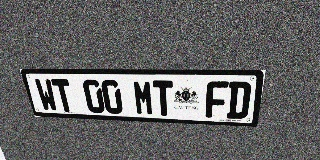0: (82, 79, 105, 113), (100, 80, 123, 114)
D: (226, 81, 252, 119)
F: (205, 81, 229, 118)
M: (132, 80, 154, 115)
T: (51, 79, 75, 112), (153, 80, 173, 116)
W: (34, 79, 59, 112)
